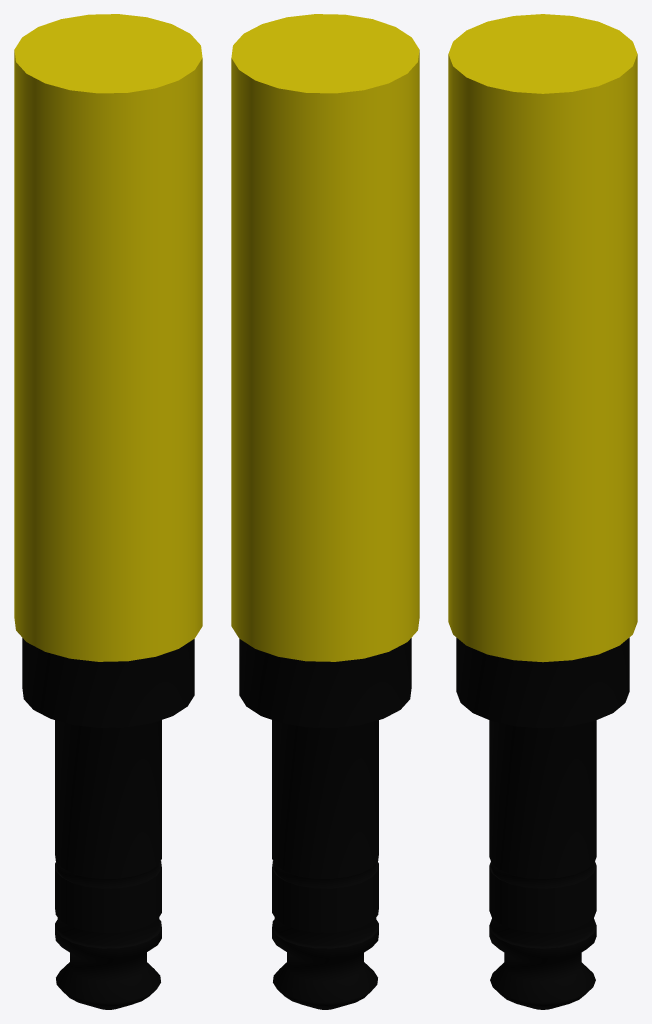
The model's file is SM_ElectricalCable.fbx.
The picture shows the model from 3 angles, left to right: view 1: azimuth 30°, elevation 25°; view 2: azimuth 150°, elevation 25°; view 3: azimuth 270°, elevation 25°; orthographic projection.
Visible parts, largest first — view 1: cable; view 2: cable; view 3: cable.
Boxes of the visible parts, x1,y1,x2,y2 form: cable: [14, 14, 202, 1009]; cable: [231, 14, 419, 1009]; cable: [448, 14, 637, 1009].
Bounding box in the file's own units: 3.65 × 20.37 × 3.66.
